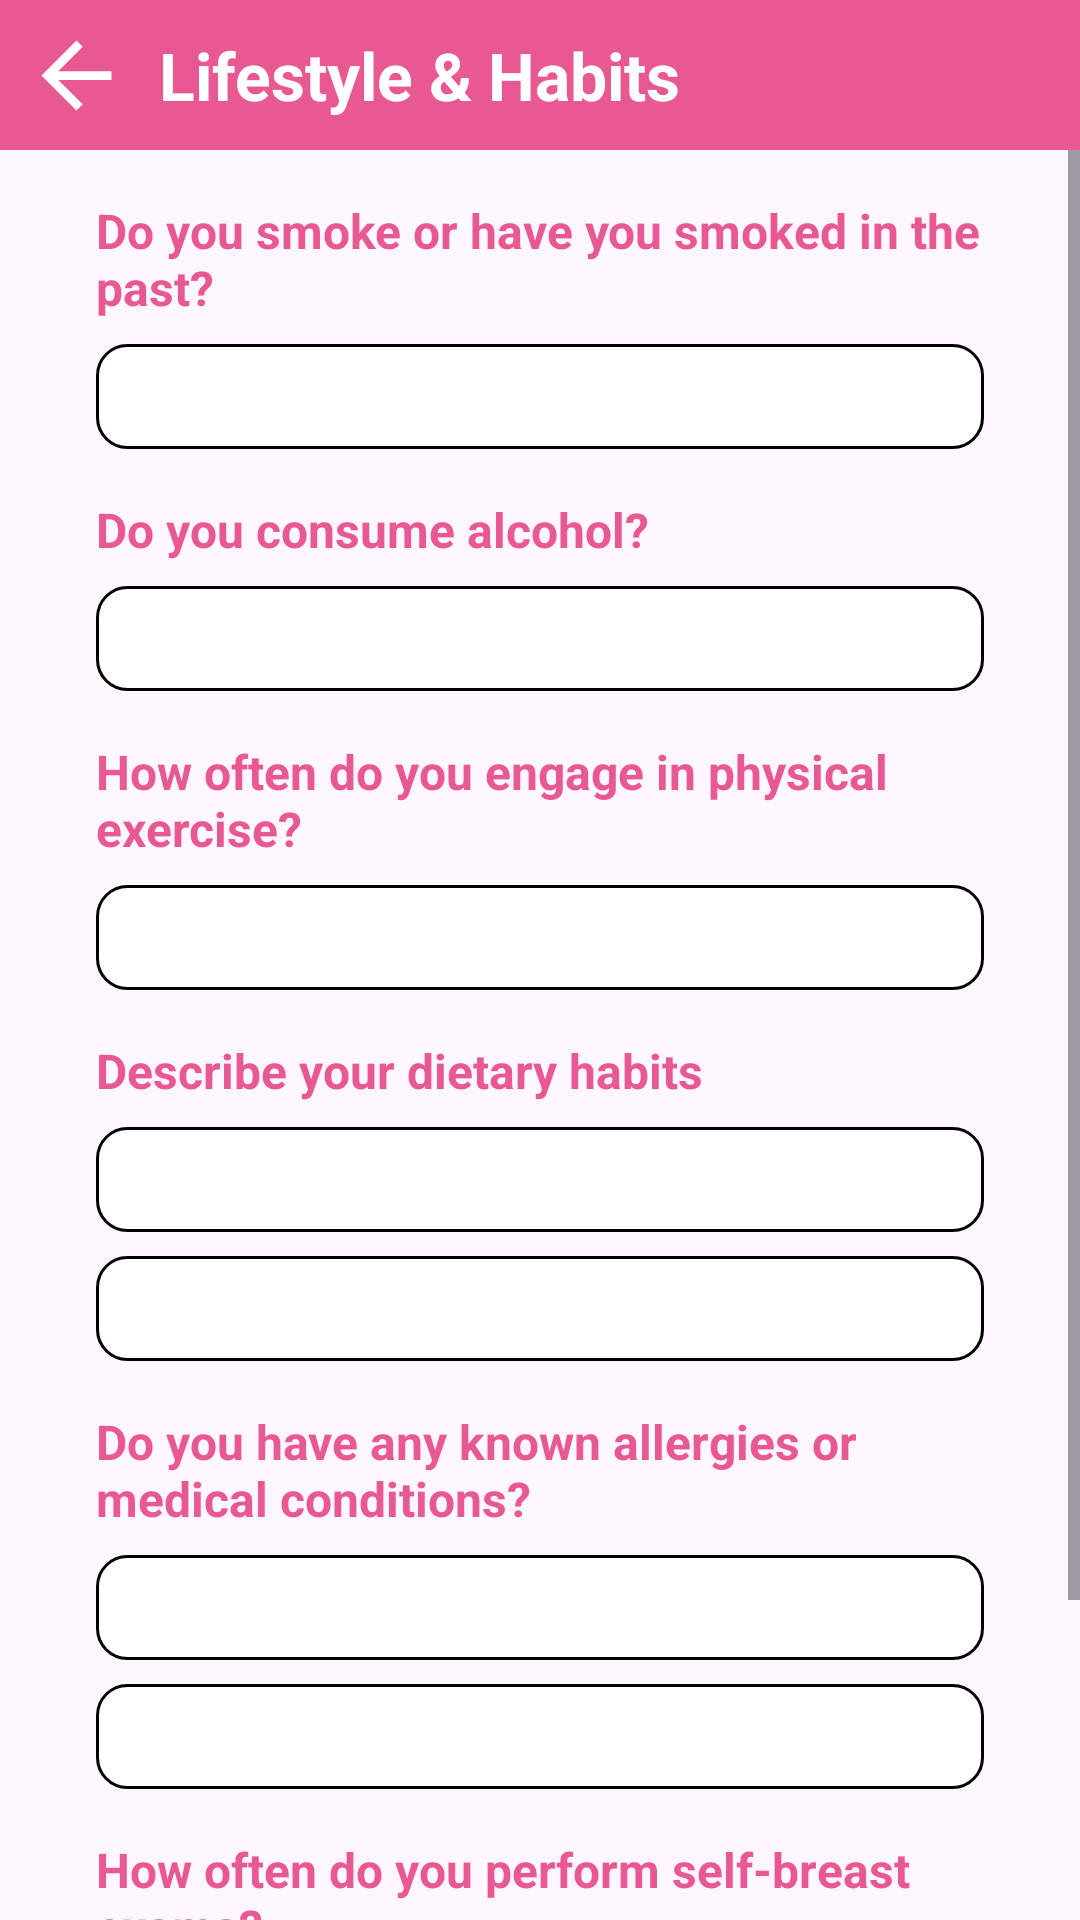

Icons on this 1080px x 1920px Android screen, each with the point to tap as [x,y]:
arrow back: [76,75]
